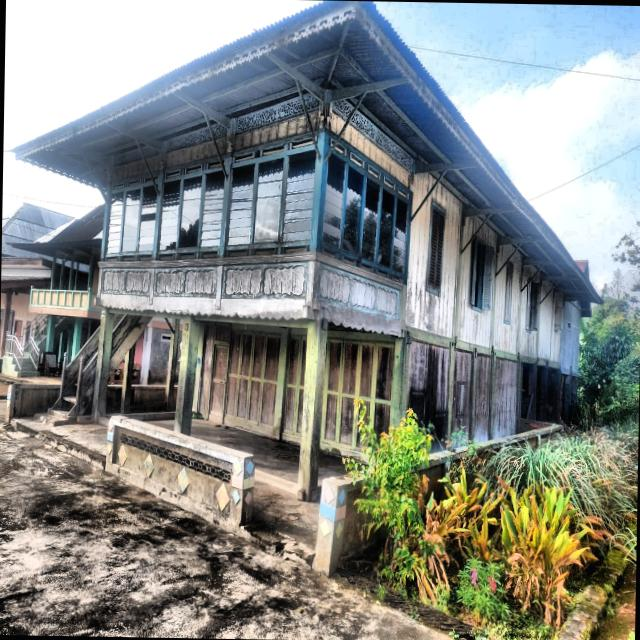column: (296, 306, 328, 501), (173, 312, 200, 436), (91, 306, 114, 423), (271, 326, 291, 441), (389, 334, 411, 427)
door: (208, 345, 228, 417)
ornamen: (317, 262, 401, 319), (220, 260, 308, 299), (153, 265, 218, 298), (100, 267, 151, 296)
roof: (14, 0, 599, 301), (15, 204, 104, 262), (1, 204, 71, 257)
stair: (47, 325, 100, 420), (108, 313, 153, 379)
wall: (317, 123, 411, 320), (221, 113, 316, 300), (153, 140, 224, 298), (319, 330, 394, 453), (405, 181, 462, 338), (197, 322, 280, 429), (100, 159, 157, 296), (457, 222, 498, 347), (408, 340, 449, 453), (494, 249, 523, 354), (282, 327, 307, 437), (537, 285, 563, 363), (492, 358, 517, 438), (450, 350, 472, 440), (518, 270, 540, 358), (473, 355, 492, 442)
window: (281, 149, 316, 241), (252, 157, 283, 243), (226, 163, 255, 245), (322, 153, 345, 247), (199, 169, 225, 247), (342, 165, 364, 255), (178, 175, 202, 248), (360, 176, 380, 262), (157, 179, 181, 249), (377, 187, 394, 268), (137, 185, 157, 251), (391, 197, 408, 274), (120, 188, 140, 252), (105, 191, 123, 254)
